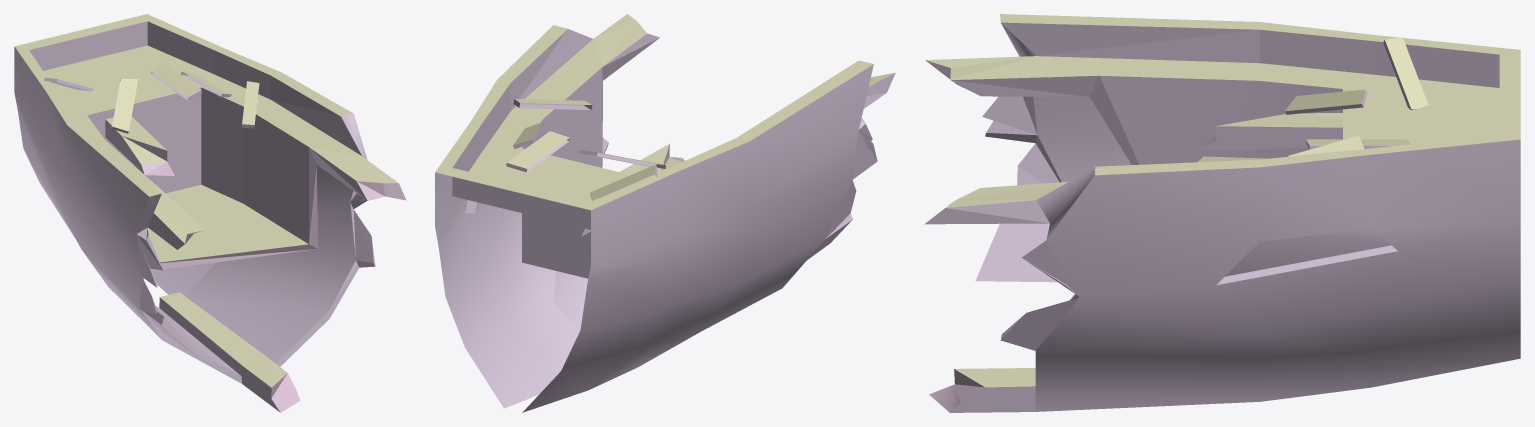
File: ytlds_Object (15).fbx
3 views of the same model, side by side, from view 1: azimuth 30°, elevation 25°; view 2: azimuth 150°, elevation 25°; view 3: azimuth 270°, elevation 25° (orthographic). The views are drawn at different scales.
Visible parts, largest first — view 1: Object15; view 2: Object15; view 3: Object15.
Boxes of the visible parts, <box> form: Object15: <box>14,14,406,412</box>; Object15: <box>435,14,895,412</box>; Object15: <box>924,14,1520,412</box>.
Size of the model in its own units: 317 by 288 by 494.
